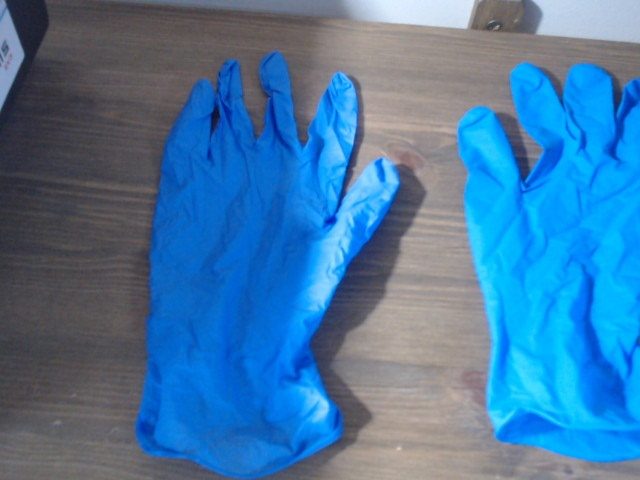medical_glove: (141, 48, 397, 474), (456, 60, 640, 461)
